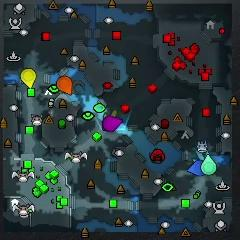p1: (188, 159, 205, 176)
p2: (201, 155, 217, 175)
p3: (103, 116, 123, 132)
p4: (21, 68, 36, 88)
p5: (57, 76, 72, 95)
x2: (104, 110, 118, 119)
x3: (192, 149, 210, 162)
